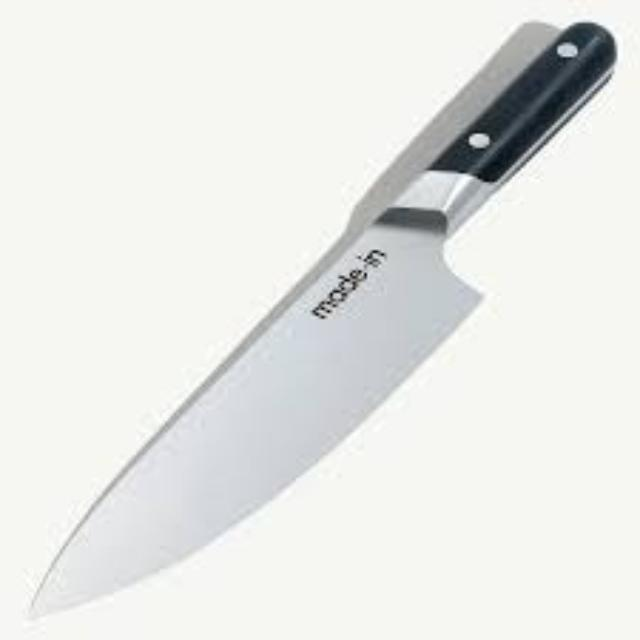Knife: (26, 18, 616, 620)
